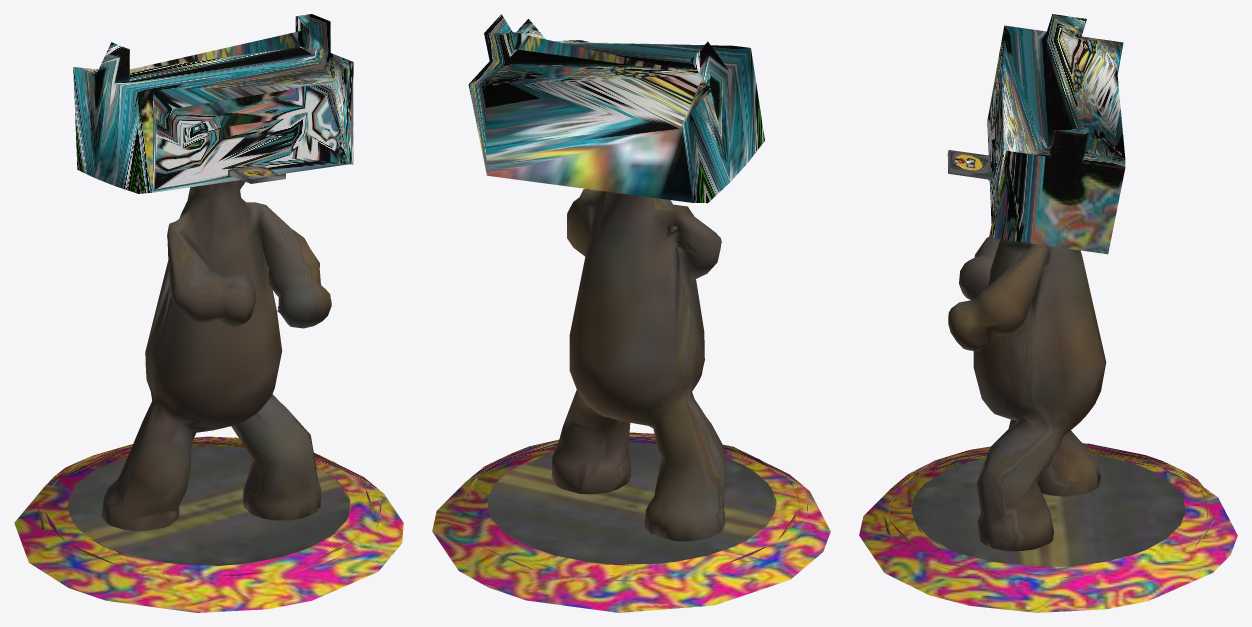
The picture shows the model from 3 angles, left to right: view 1: azimuth 30°, elevation 25°; view 2: azimuth 150°, elevation 25°; view 3: azimuth 270°, elevation 25°; orthographic projection. The views are drawn at different scales.
Size of the model in its own units: 1.44 by 2.03 by 1.45.
8 materials, 5 textured.
